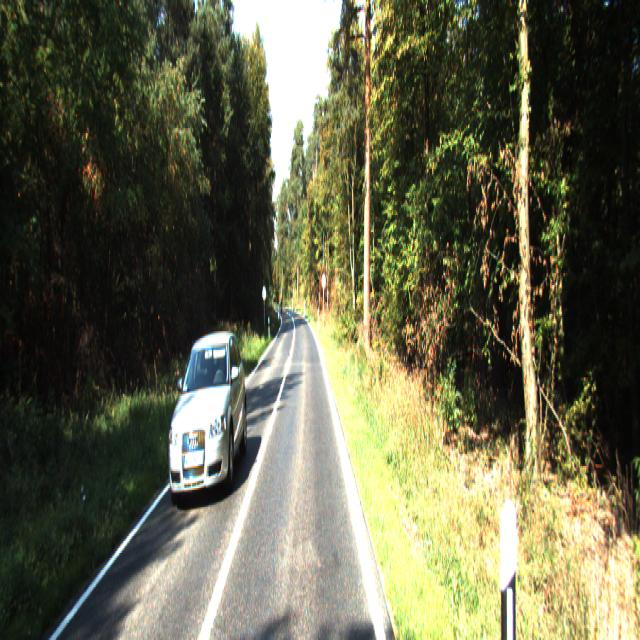Car: (165, 326, 251, 508)
